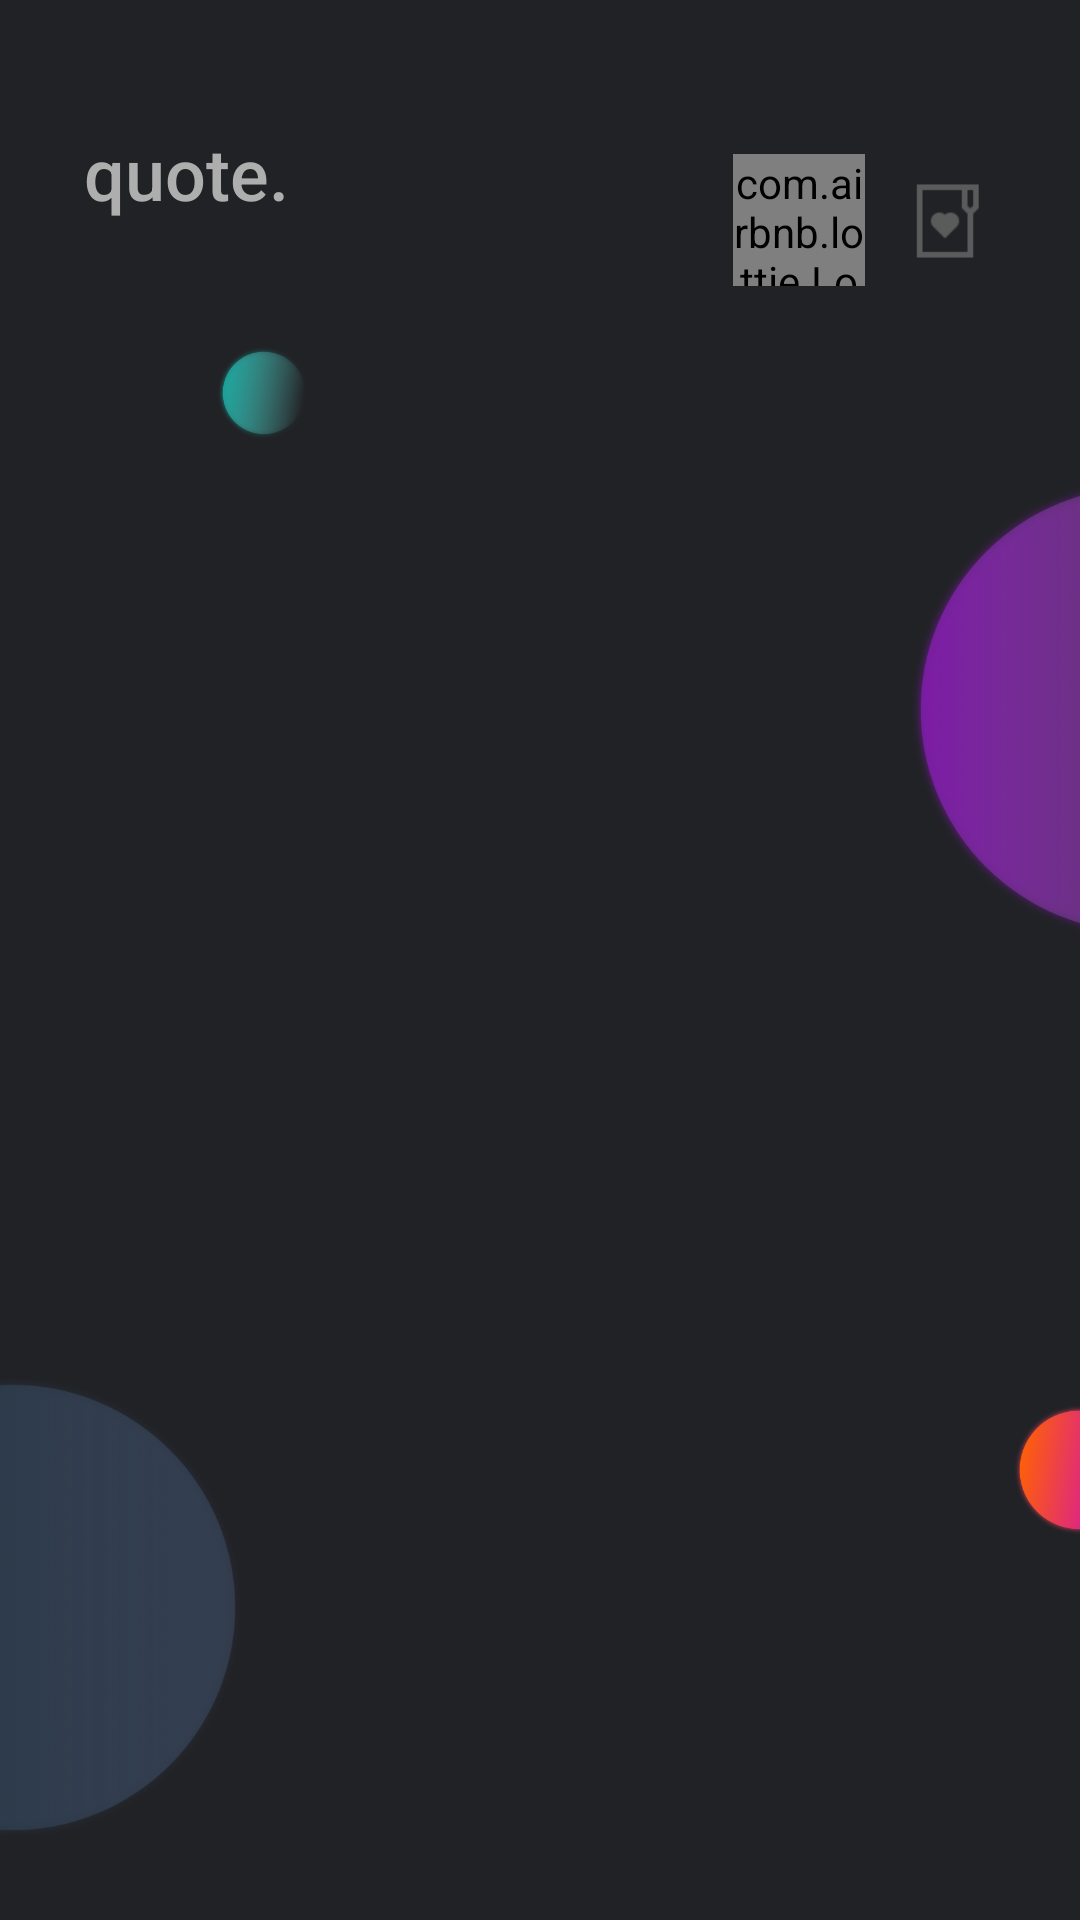

Screen size 1080×1920. Icon name, then its box in pixels as (x1, y1, x2, y2):
fav: (917, 184, 979, 258)
